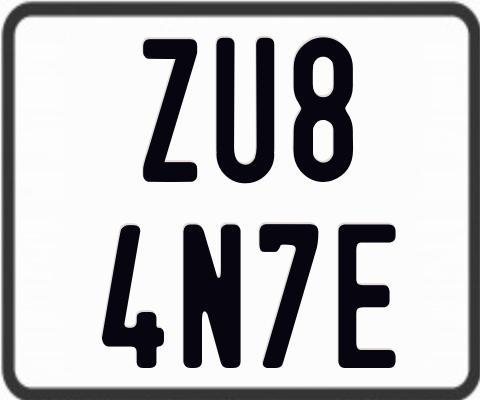4: (102, 222, 170, 368)
7: (256, 224, 321, 368)
8: (293, 37, 359, 188)
E: (335, 224, 395, 374)
N: (180, 221, 242, 369)
U: (213, 38, 272, 187)
Z: (141, 38, 196, 182)
